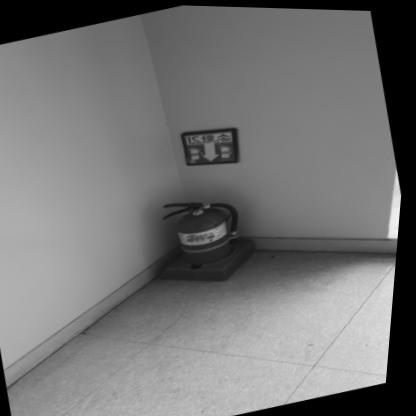FE: (148, 183, 262, 295)
